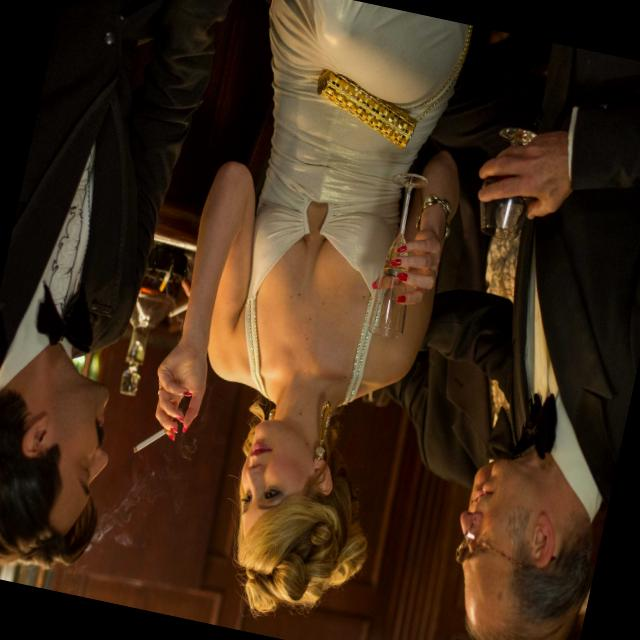smoke: (128, 427, 162, 462)
